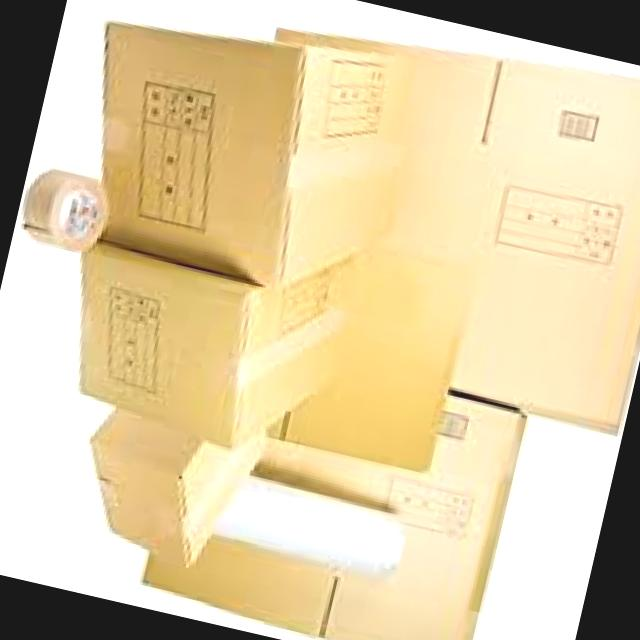cardboard: (352, 41, 639, 432), (145, 396, 525, 639), (102, 23, 409, 286), (256, 396, 525, 639), (80, 242, 348, 447), (273, 249, 467, 471), (91, 412, 265, 566), (143, 538, 335, 637)
